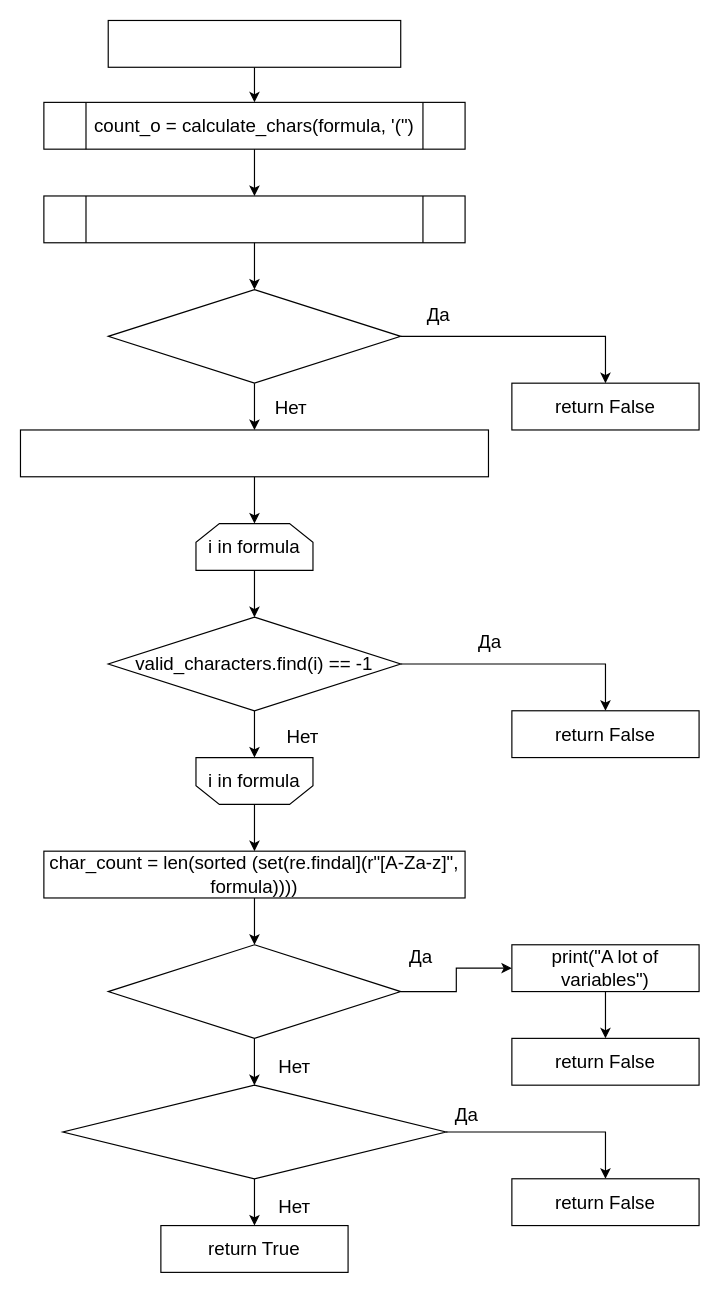
Some shapes in this 720 by 1293 pixel diagram are drawn without their labels. Here are the shapes that lost their labels. From the top down, the box of each, then its label:
(107, 19, 401, 67): check_input(formula)
(43, 195, 465, 243): count_c = calculate_chars(formula, ')")
(107, 288, 401, 383): count_0 != count_c
(19, 429, 488, 477): valid_characters = "01ABCDEFGHIJKLMNOPQRSTUVWXYZ\/!~->()"
(107, 944, 401, 1038): char_count > 16
(62, 1084, 446, 1179): is_valid_logic_formula(formula) != True
